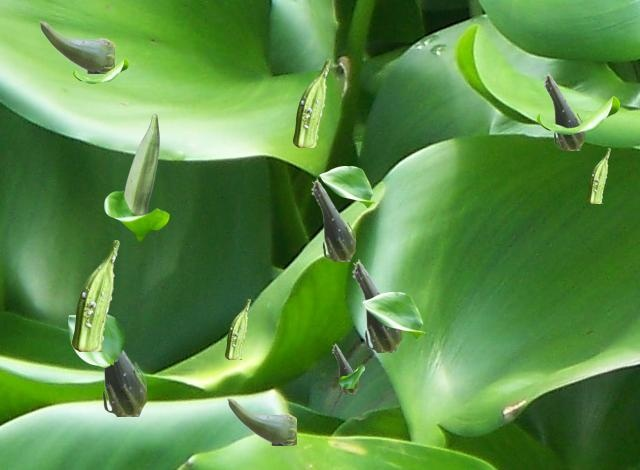okra: (72, 240, 118, 350), (352, 259, 400, 351), (39, 21, 113, 72), (311, 178, 354, 260), (124, 114, 158, 214), (293, 59, 329, 146), (227, 398, 295, 444), (543, 72, 583, 149), (101, 350, 145, 415), (225, 299, 249, 358), (332, 343, 357, 392), (587, 148, 609, 202)
